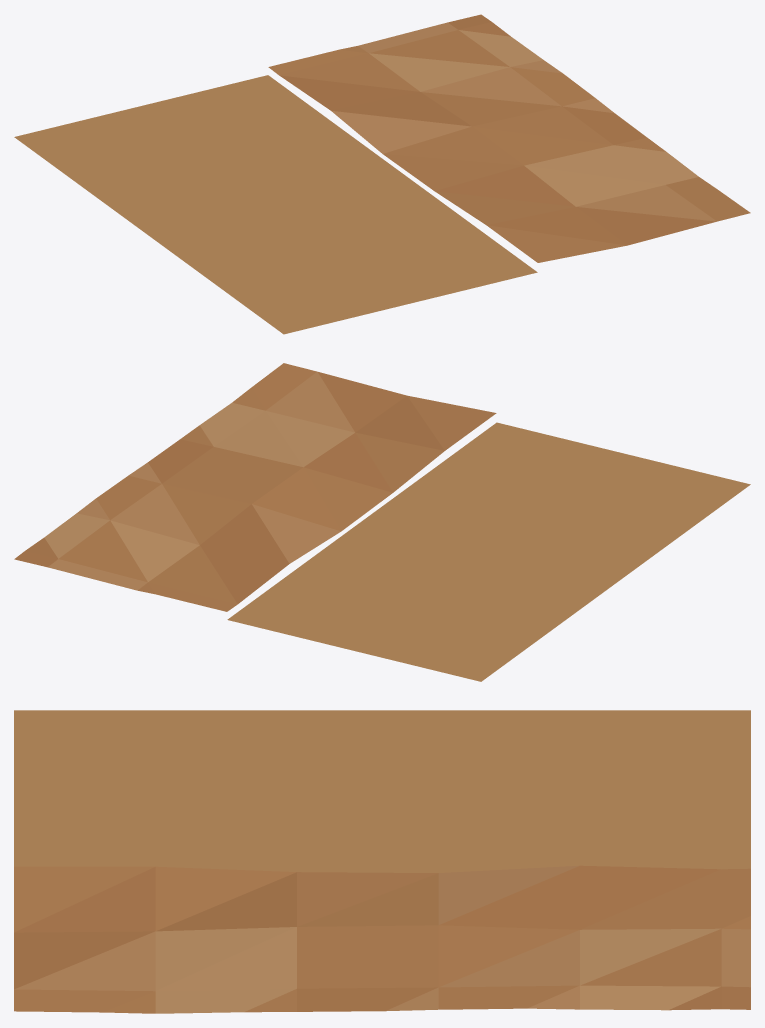
The picture shows the model from 3 angles, top to bottom: view 1: azimuth 30°, elevation 25°; view 2: azimuth 150°, elevation 25°; view 3: azimuth 270°, elevation 25°; orthographic projection. The views are drawn at different scales.
Visible parts, largest first — view 1: baked; view 2: baked; view 3: baked.
Part boxes in pixels (x1=…): baked: x1=14, y1=14, x2=750, y2=334; baked: x1=14, y1=363, x2=750, y2=681; baked: x1=14, y1=710, x2=750, y2=1013.
Bounding box in the file's own units: 62.5 × 1.32 × 62.5.
